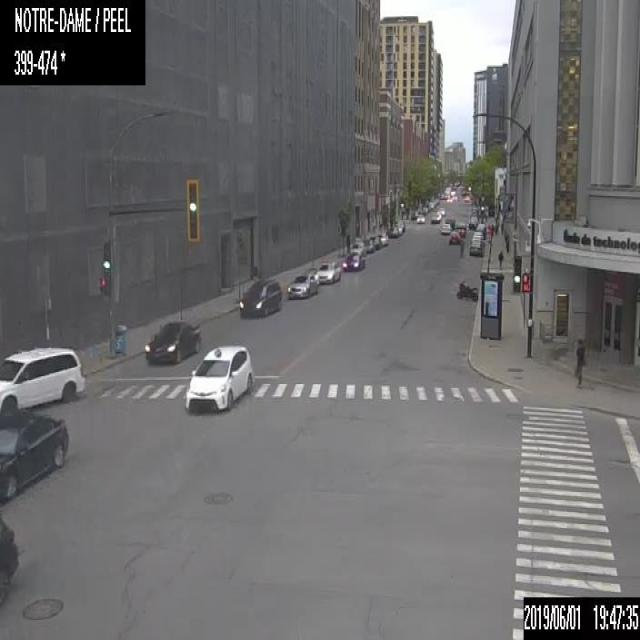pedestrian: (572, 337, 584, 391), (459, 238, 465, 258), (497, 249, 503, 268), (345, 234, 350, 254), (504, 232, 509, 251), (490, 220, 494, 237), (499, 220, 504, 233), (494, 220, 498, 233)
vehicle: (0, 408, 69, 504), (0, 345, 85, 414), (184, 343, 254, 413), (143, 318, 201, 362), (238, 275, 282, 317), (0, 513, 17, 609), (286, 270, 319, 298), (314, 261, 340, 285), (342, 251, 364, 272), (456, 280, 477, 300), (350, 240, 364, 255), (468, 242, 483, 255), (454, 221, 466, 237), (368, 235, 382, 248), (376, 232, 388, 246), (363, 238, 374, 252), (448, 230, 459, 244), (430, 211, 442, 223), (439, 222, 451, 234), (476, 223, 485, 238), (445, 216, 455, 228), (470, 234, 482, 244), (389, 225, 398, 238), (416, 213, 425, 223), (436, 206, 445, 216), (394, 224, 402, 235), (397, 219, 405, 230), (472, 230, 482, 237)
